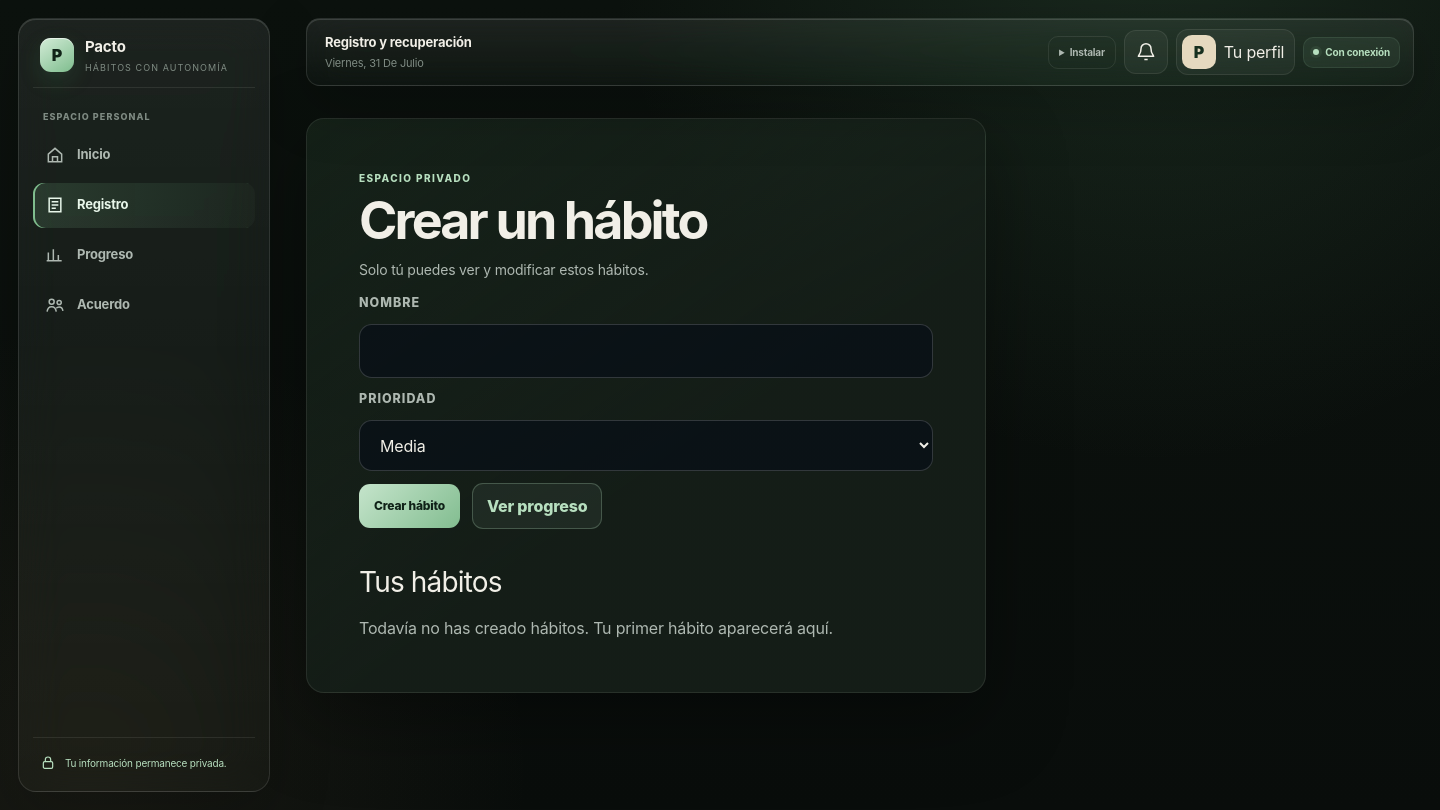
private route integration › keeps routed form data and tells the truth when saving is unavailable
In the field labelled "Nombre": (646, 351) [359,324,933,378], type "Pedir una pausa"
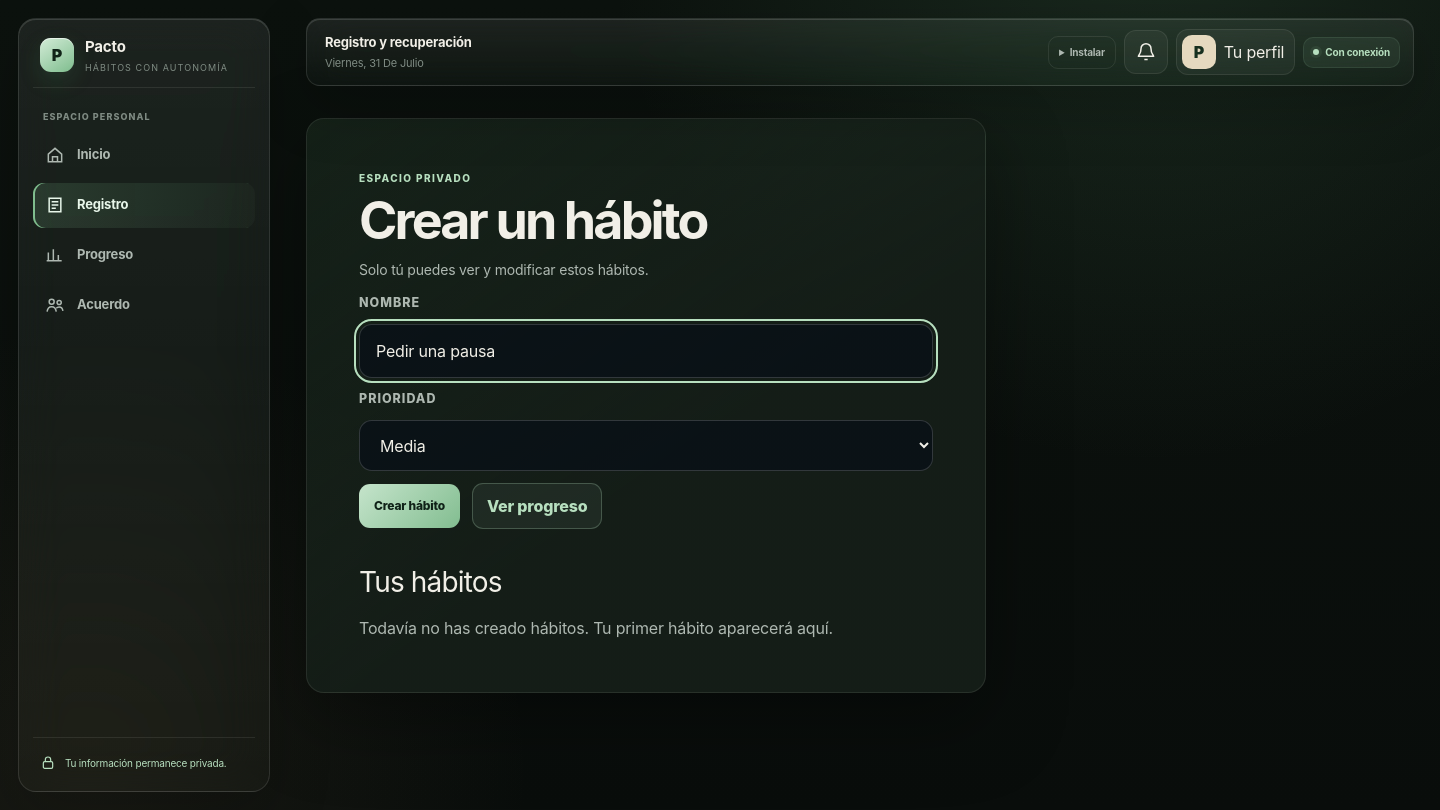
Click the button "Crear hábito": (410, 506) [359,484,460,528]
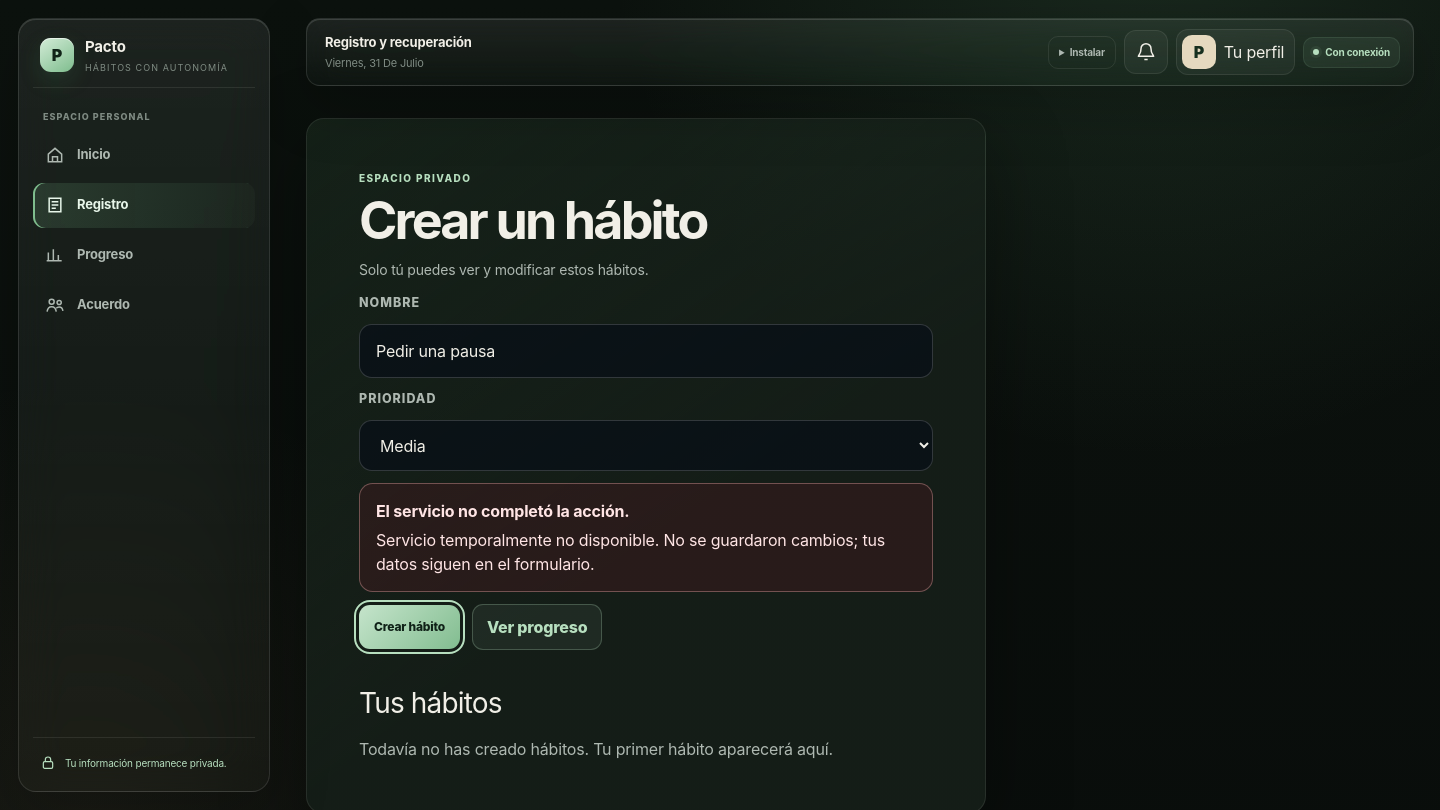
Check: the message shows "No se guardaron cambios", box [376,530,885,574]
